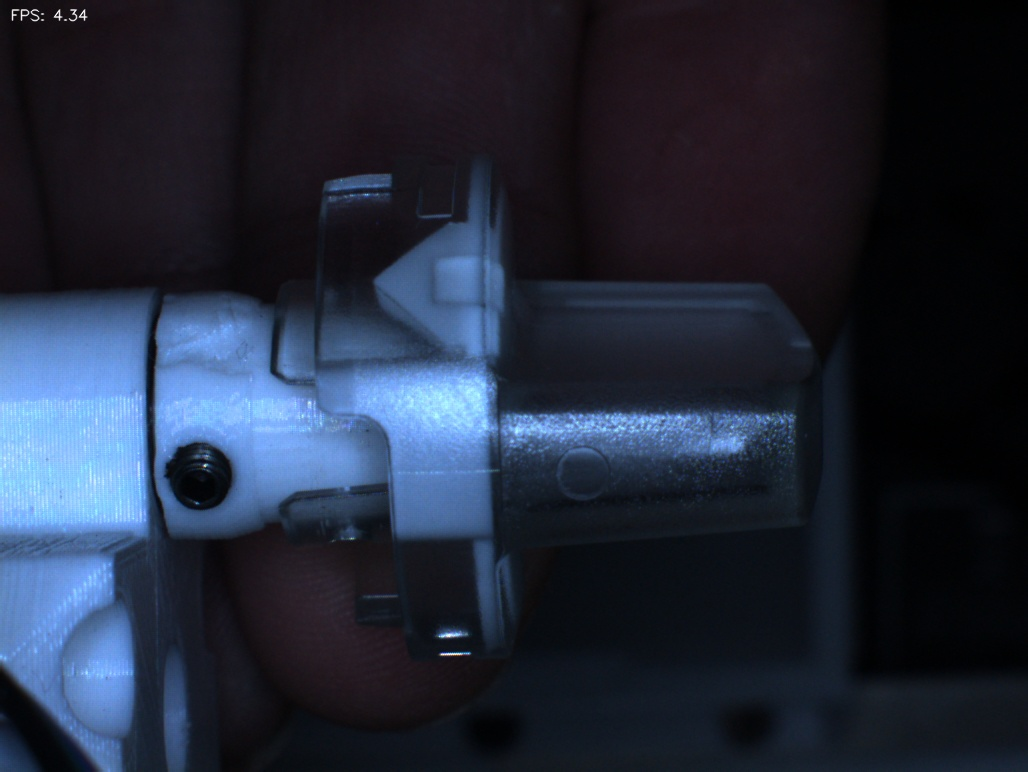DentOk: (339, 232, 420, 339)
